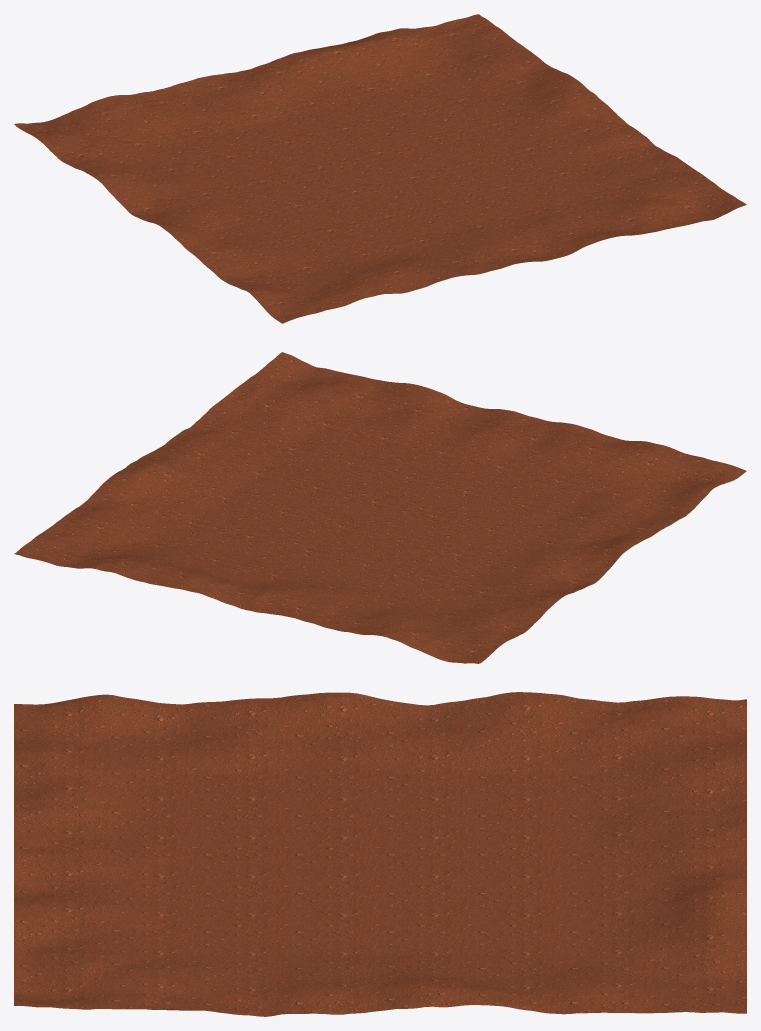
Rendered from ares-lookdev-ground.glb.
3 views of the same model, one above another, from view 1: azimuth 30°, elevation 25°; view 2: azimuth 150°, elevation 25°; view 3: azimuth 270°, elevation 25° (orthographic). The views are drawn at different scales.
Parts seen in each view (by area): view 1: ARES_LOOKDEV_GROUND; view 2: ARES_LOOKDEV_GROUND; view 3: ARES_LOOKDEV_GROUND.
Boxes of the visible parts, left/top/right/bottom form: ARES_LOOKDEV_GROUND: left=14, top=14, right=746, bottom=323; ARES_LOOKDEV_GROUND: left=14, top=352, right=746, bottom=663; ARES_LOOKDEV_GROUND: left=14, top=692, right=746, bottom=1016.
Size of the model in its own units: 24 by 0.7427 by 24.
1 material, 1 textured.
